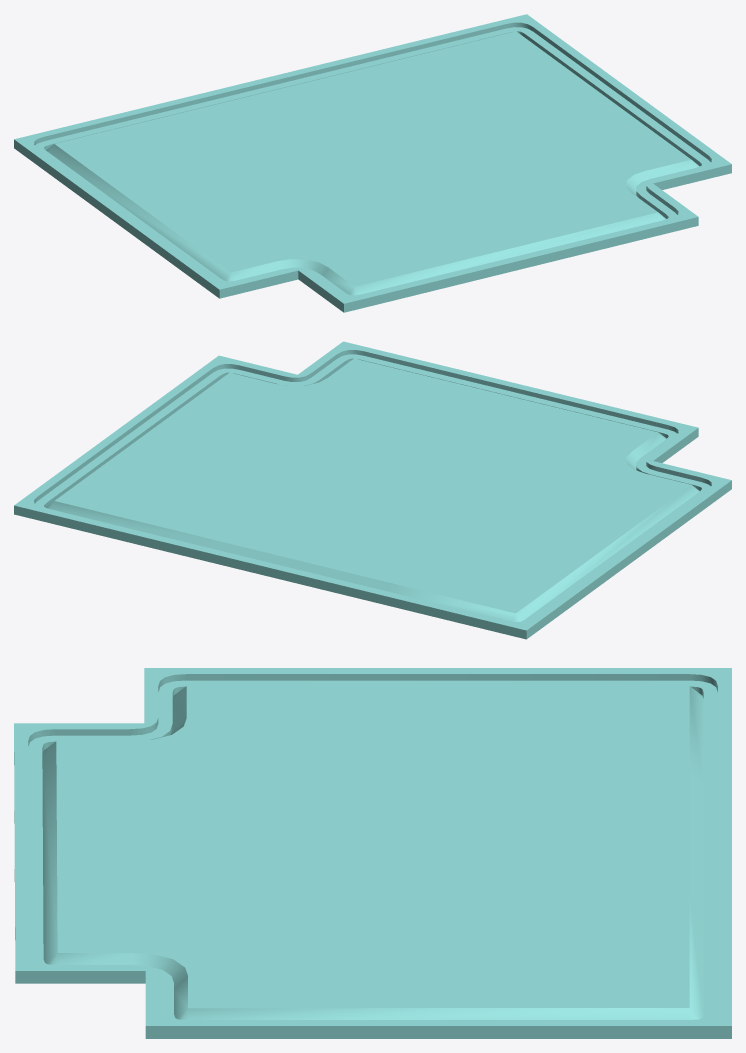
Rendered from RoundCorr_Floor_TType_A.FBX.
The picture shows the model from 3 angles, top to bottom: view 1: azimuth 30°, elevation 25°; view 2: azimuth 150°, elevation 25°; view 3: azimuth 270°, elevation 25°; orthographic projection. The views are drawn at different scales.
Parts seen in each view (by area): view 1: RoundCorr_Floor_TType_A; view 2: RoundCorr_Floor_TType_A; view 3: RoundCorr_Floor_TType_A.
Boxes of the visible parts, box(x1,y1,x2,y2) form: RoundCorr_Floor_TType_A: box(14, 14, 731, 312); RoundCorr_Floor_TType_A: box(14, 341, 731, 639); RoundCorr_Floor_TType_A: box(14, 668, 731, 1038).
Size of the model in its own units: 599 by 10 by 508.
